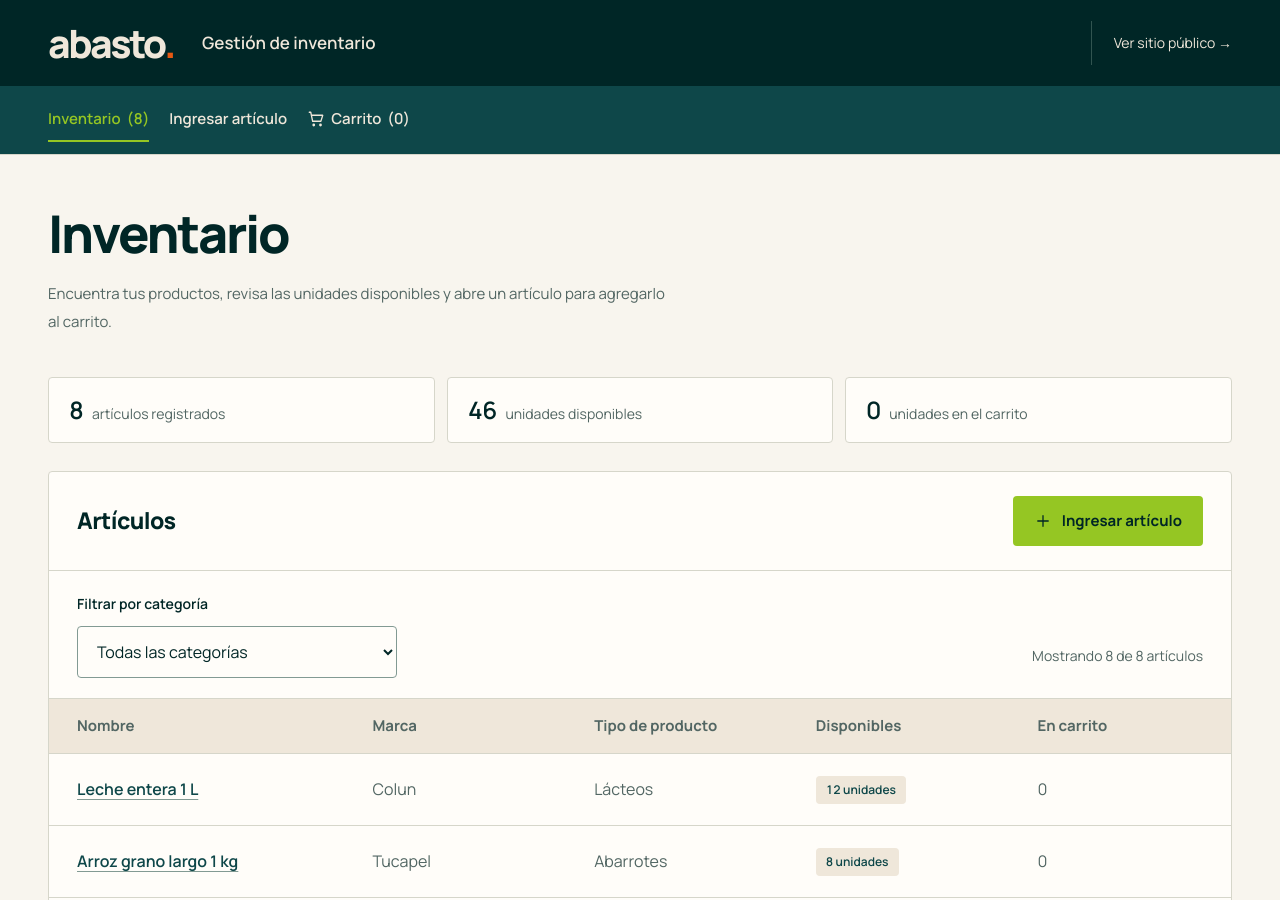
Inventario y carrito › permite explorar los ejemplos, filtrar y reservar la última unidad desde el primer acceso
Select "Otros" in the dropdown labelled "Filtrar por categoría" at x=237, y=652, box [77,626,397,678]
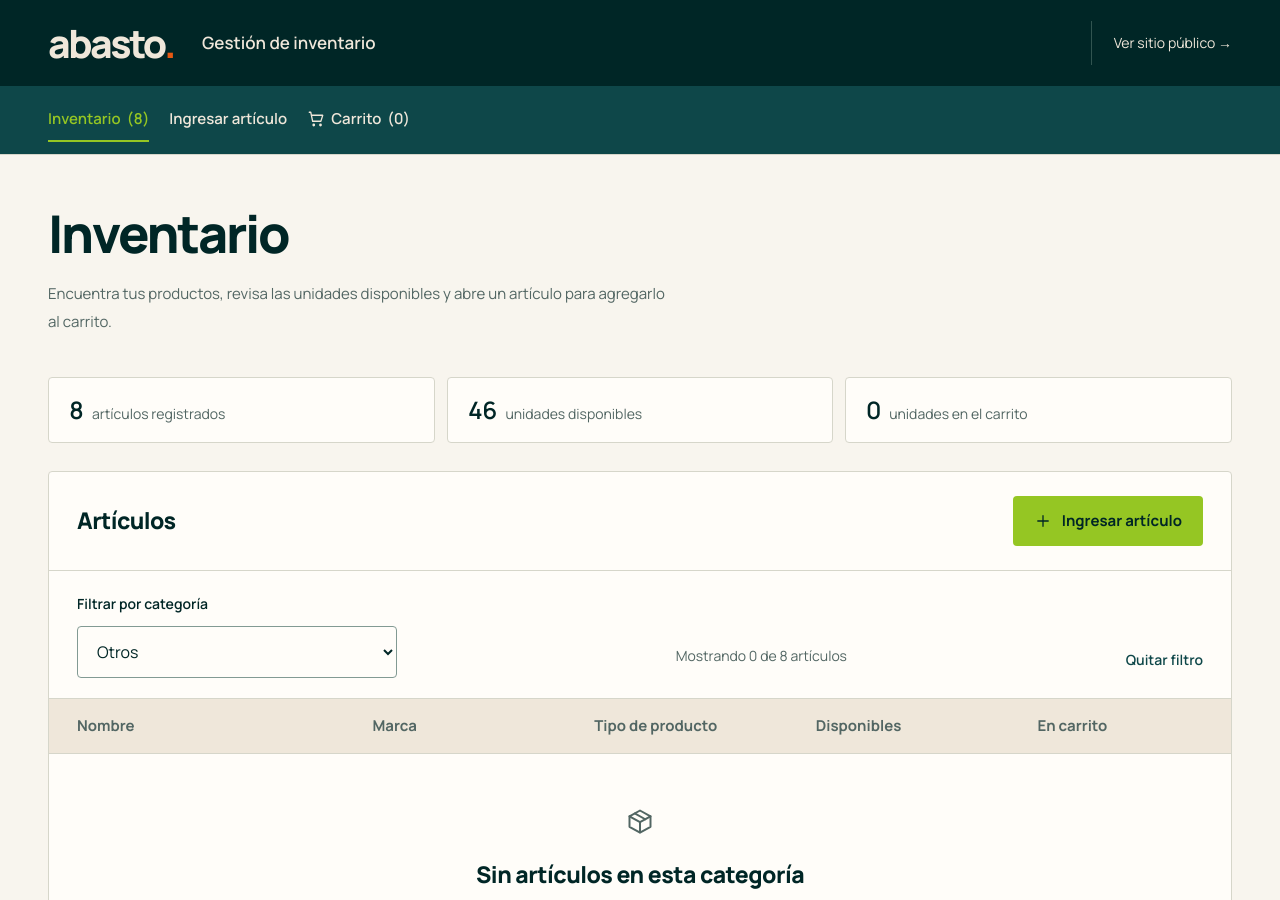
Check: the heading "Sin artículos en esta categoría" is shown, box [476,858,804,890]
Select "Bebidas" in the dropdown labelled "Filtrar por categoría" at x=237, y=652, box [77,626,397,678]
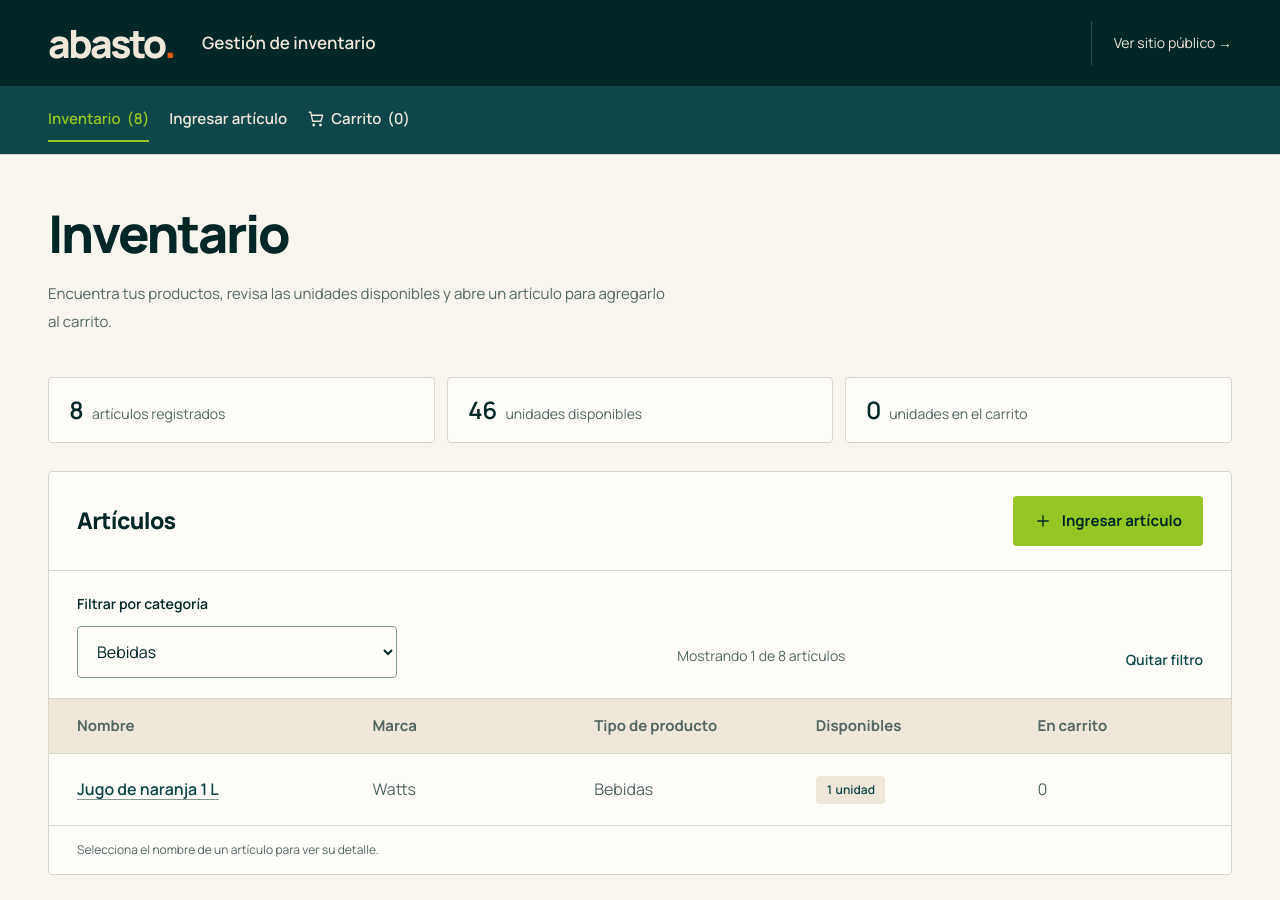
Check: the message reads "Mostrando 1 de 8 artículos", box [677,646,845,665]
Click the link "Jugo de naranja 1 L" at x=148, y=789, box [77,778,219,800]
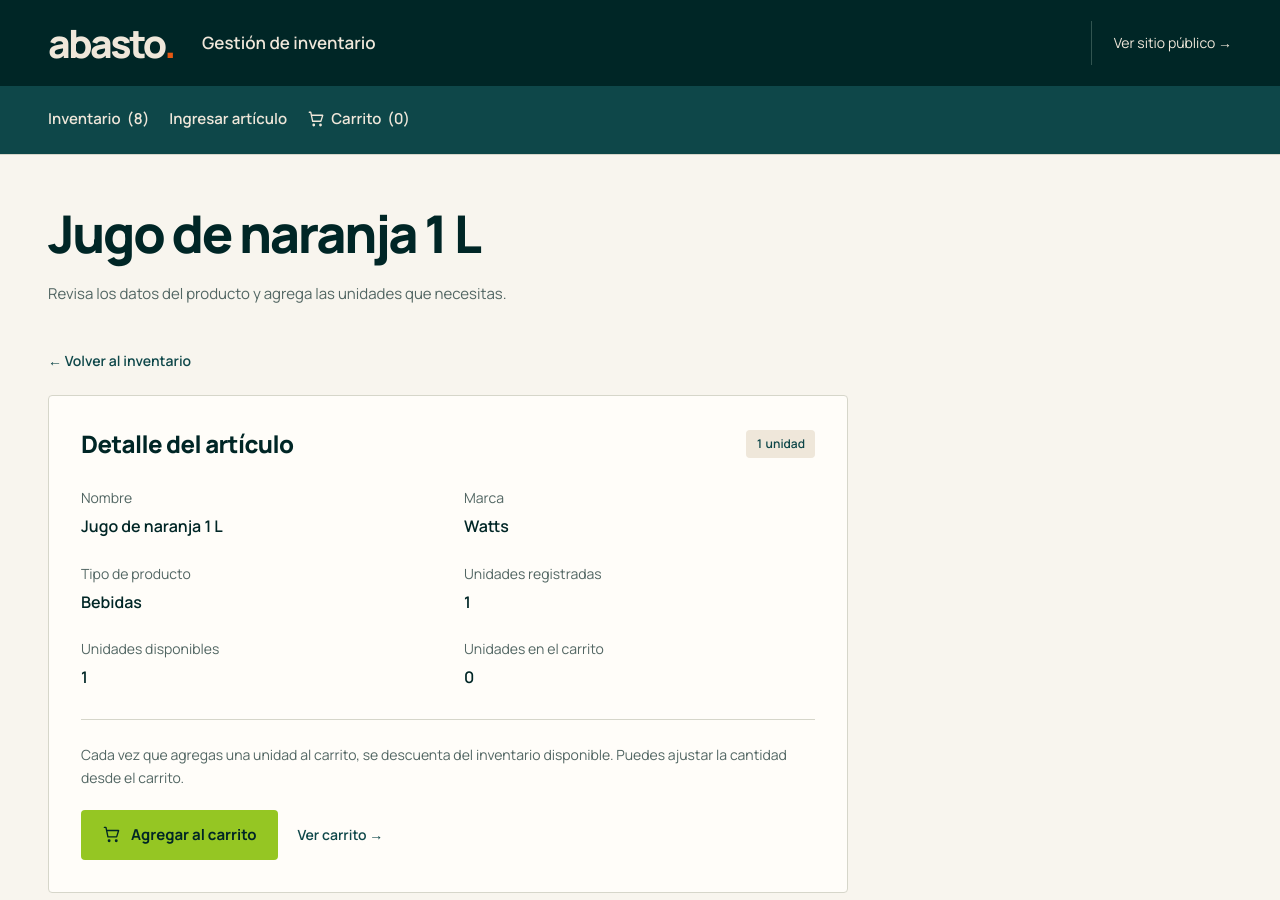
Click the button "Agregar al carrito" at x=179, y=834, box [81,810,278,860]
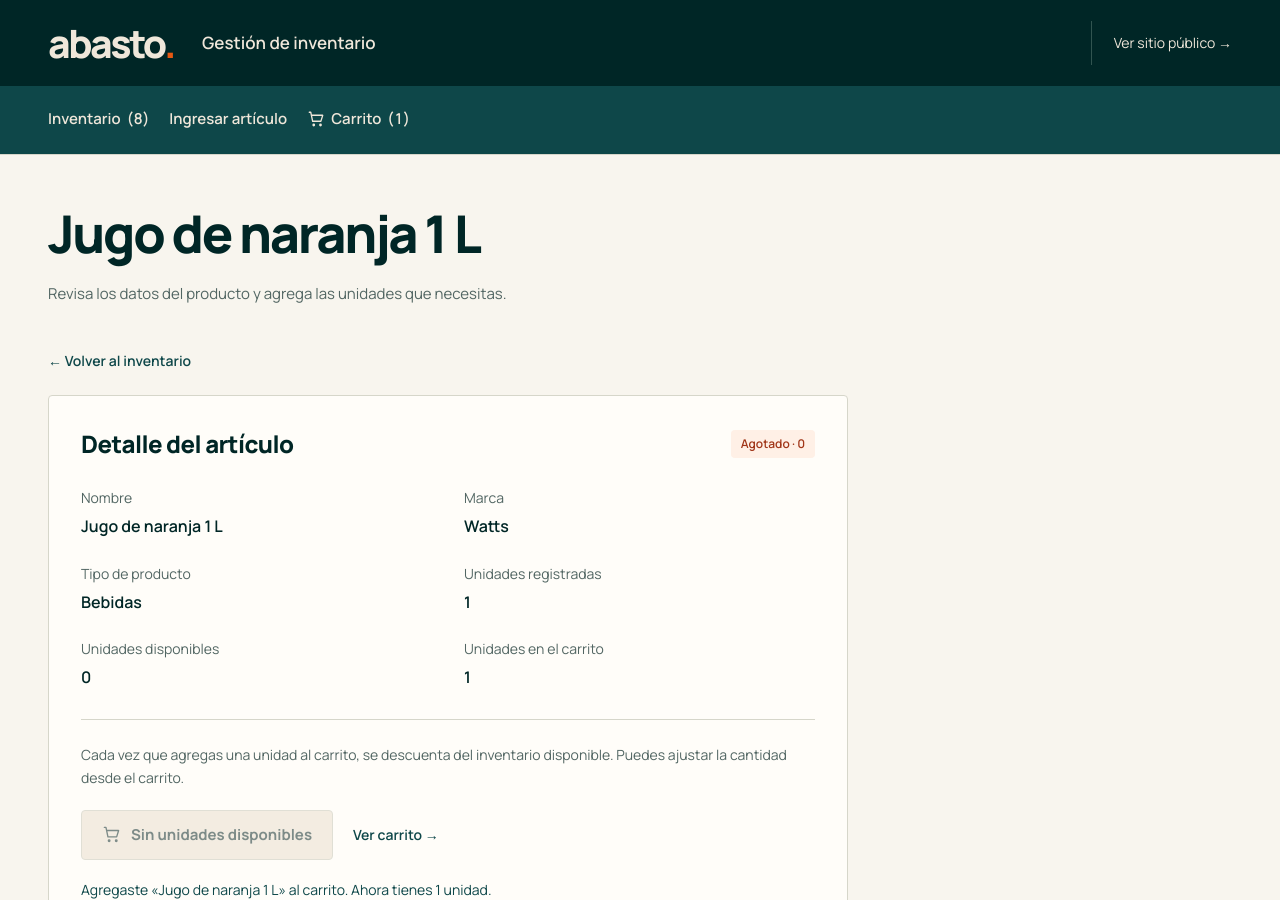
Check: the button "Sin unidades disponibles" is disabled, box [81,810,333,860]
Click the link "Ver carrito →" at x=396, y=834, box [353,824,439,844]
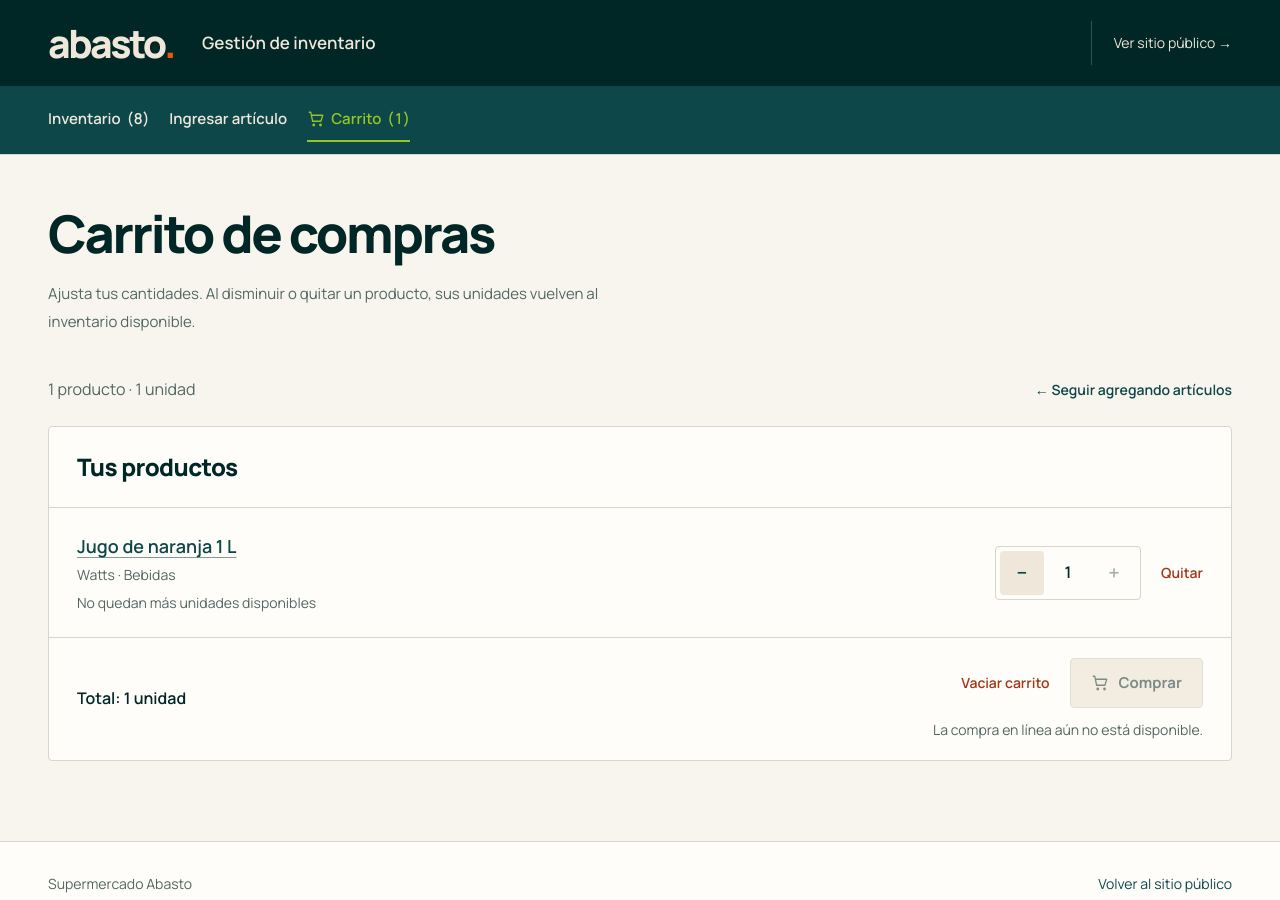
Check: the text named "Cantidad de Jugo de naranja 1 L" reads "1", box [1063,561,1073,583]
Check: the heading "Carrito de compras" is shown, box [48,198,494,269]
Click the button named "Disminuir cantidad de Jugo de naranja 1 L" at x=1022, y=573, box [1000,551,1044,595]
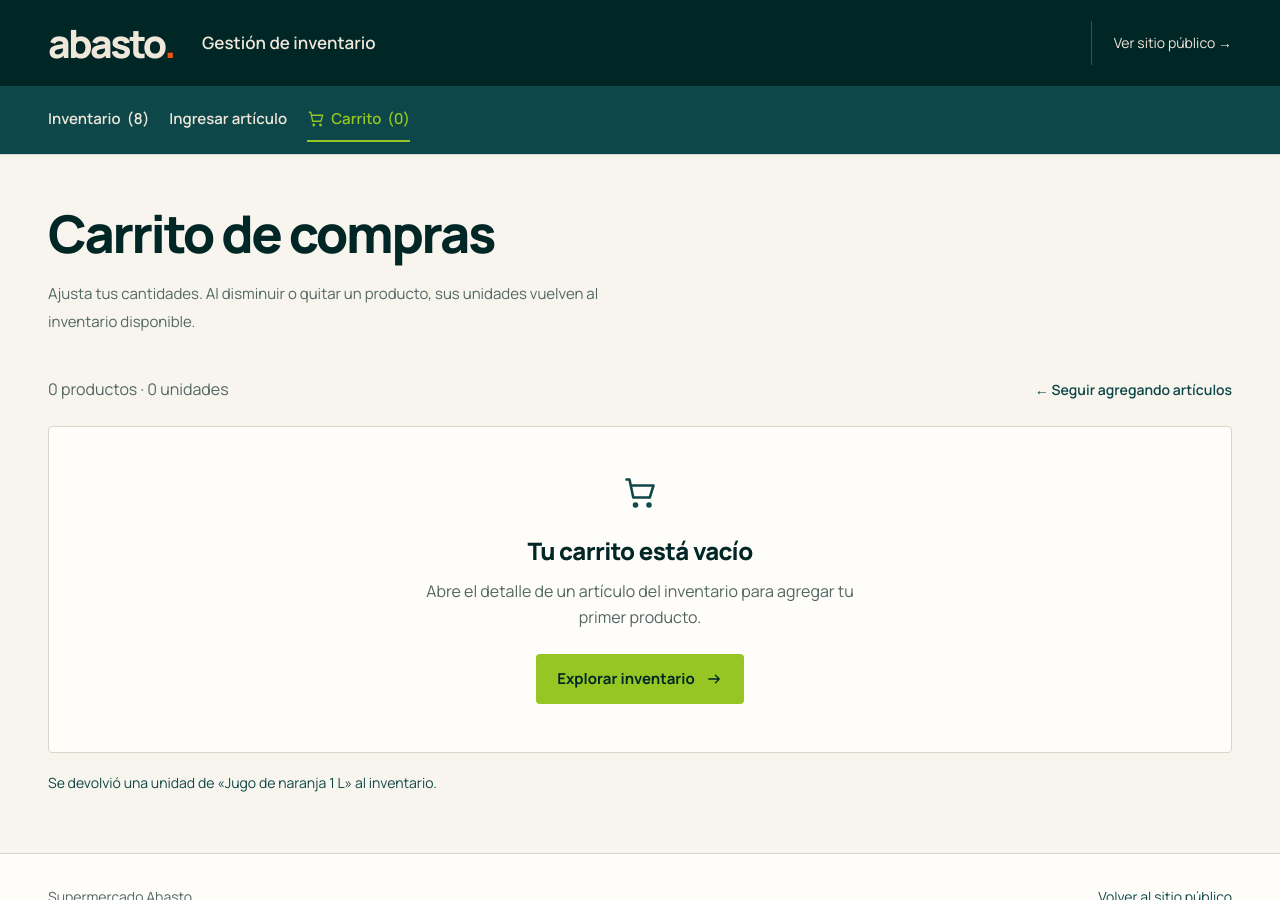
Check: the heading "Tu carrito está vacío" is shown, box [527,534,753,567]
Check: the message shows "Se devolvió una unidad", box [48,773,437,792]
